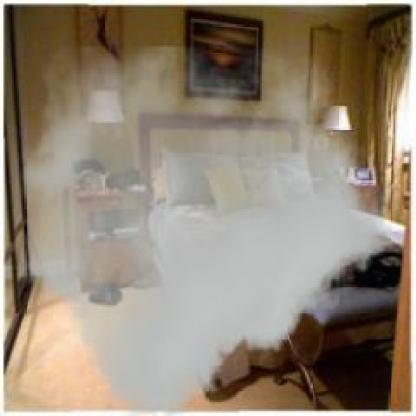Smoke: (21, 47, 386, 414)
